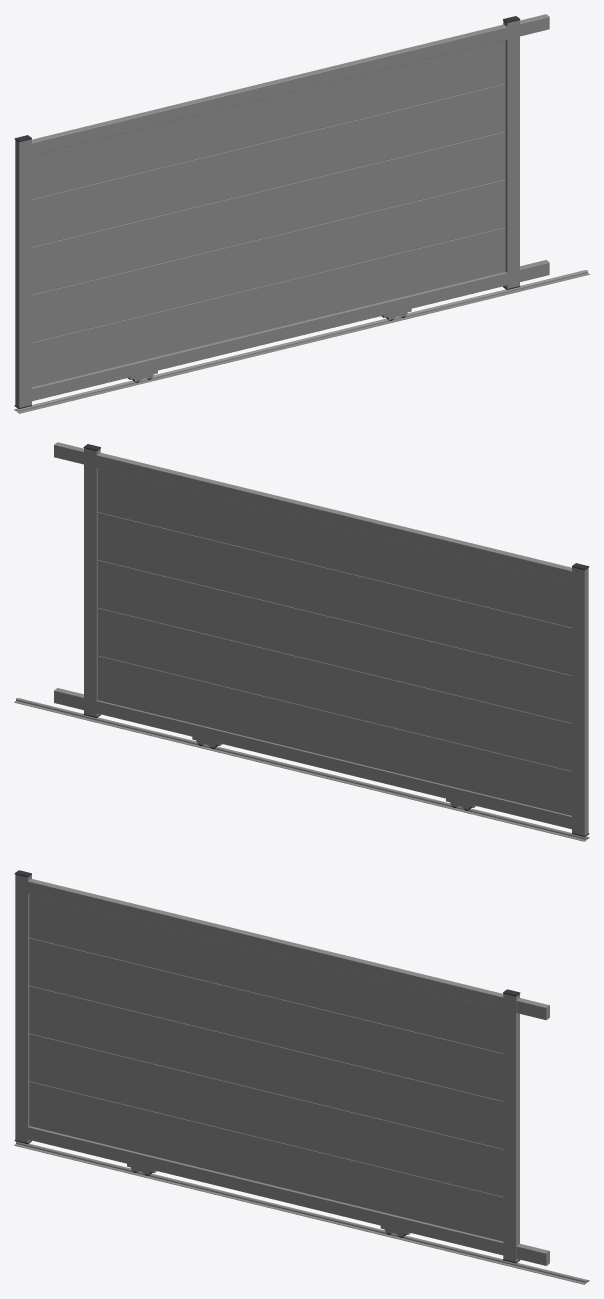
The picture shows the model from 3 angles, top to bottom: view 1: azimuth 30°, elevation 25°; view 2: azimuth 150°, elevation 25°; view 3: azimuth 330°, elevation 25°; orthographic projection.
Parts seen in each view (by area): view 1: Line014, Line013, Line015, Line016, Line012, Shape096, Shape095, Pilar, Pilar001, Rail; view 2: Line014, Line015, Line013, Line016, Line012, Shape096, Shape095, Pilar, Pilar001, Rail; view 3: Line013, Line014, Line015, Line016, Line012, Shape096, Shape095, Pilar001, Pilar, Rail.
Boxes of the visible parts, <box> form: Line014: <box>32,131,505,294</box>; Line013: <box>32,83,505,246</box>; Line015: <box>32,179,505,341</box>; Line016: <box>32,226,505,387</box>; Line012: <box>32,40,505,198</box>; Shape096: <box>32,14,549,155</box>; Shape095: <box>32,260,549,401</box>; Pilar: <box>15,139,31,407</box>; Pilar001: <box>503,20,519,288</box>; Rail: <box>14,270,589,413</box>; Line014: <box>97,559,571,722</box>; Line015: <box>97,607,571,770</box>; Line013: <box>97,511,571,674</box>; Line016: <box>97,655,571,815</box>; Line012: <box>97,468,571,626</box>; Shape096: <box>54,442,571,583</box>; Shape095: <box>54,688,571,829</box>; Pilar: <box>572,567,588,835</box>; Pilar001: <box>84,448,100,716</box>; Rail: <box>14,698,589,841</box>; Line013: <box>29,937,503,1100</box>; Line014: <box>29,985,503,1148</box>; Line015: <box>29,1033,503,1196</box>; Line016: <box>29,1081,503,1241</box>; Line012: <box>29,894,503,1052</box>; Shape096: <box>28,879,549,1020</box>; Shape095: <box>28,1126,549,1265</box>; Pilar001: <box>503,993,519,1262</box>; Pilar: <box>15,874,31,1142</box>; Rail: <box>14,1141,589,1284</box>.
Bounding box in the file's own units: 3600 × 1640 × 60.02.
Materials: 5 (2 with a texture image).
